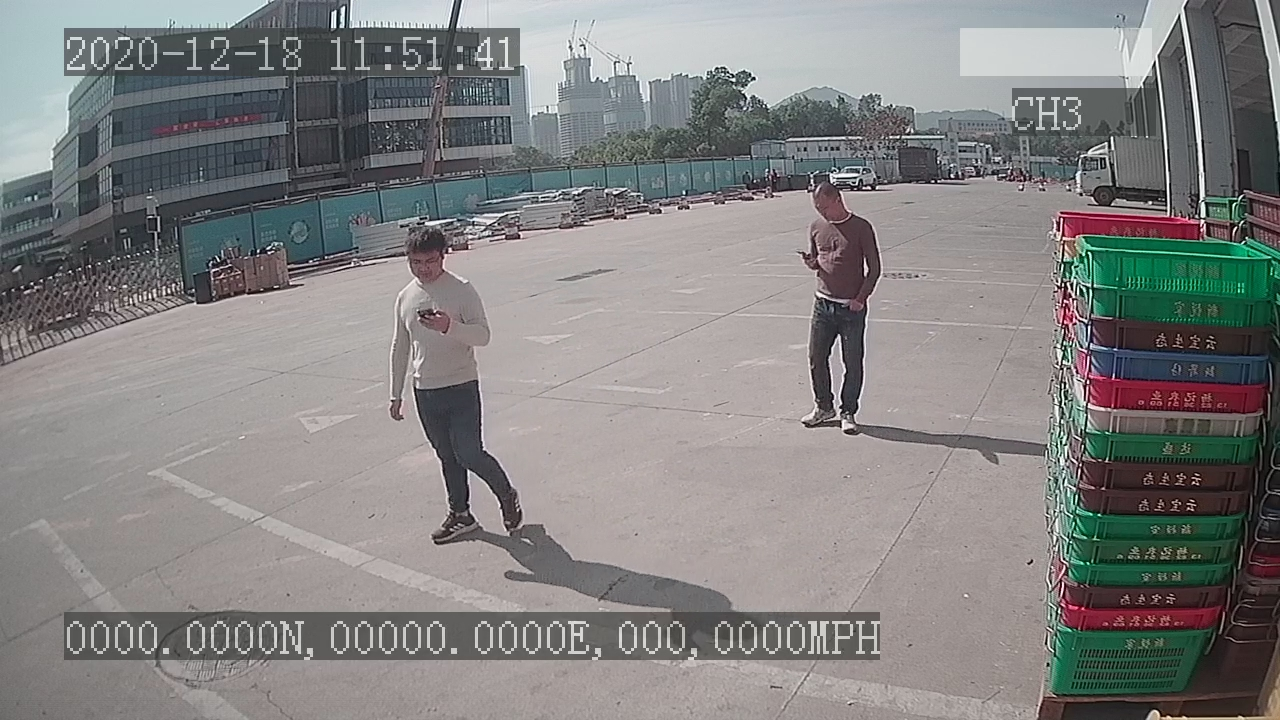person: (379, 219, 531, 554), (783, 163, 890, 444)
